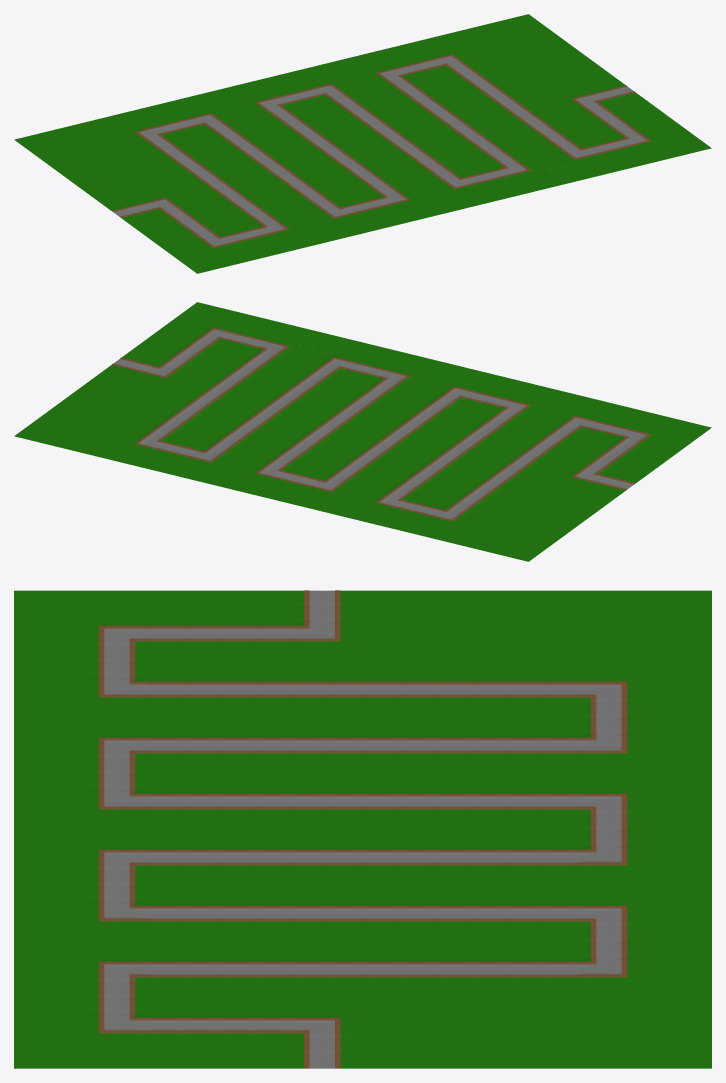
Rendered from trilha grama plus.fbx.
3 renders of one model, top to bottom at view 1: azimuth 30°, elevation 25°; view 2: azimuth 150°, elevation 25°; view 3: azimuth 270°, elevation 25°, orthographic. The views are drawn at different scales.
Visible parts, largest first — view 1: Plane.064; view 2: Plane.064; view 3: Plane.064.
Boxes of the visible parts, x1=… form: Plane.064: x1=14, y1=14, x2=711, y2=273; Plane.064: x1=14, y1=302, x2=711, y2=561; Plane.064: x1=14, y1=590, x2=711, y2=1068.
Size of the model in its own units: 29696 by 15.72 by 18323.
